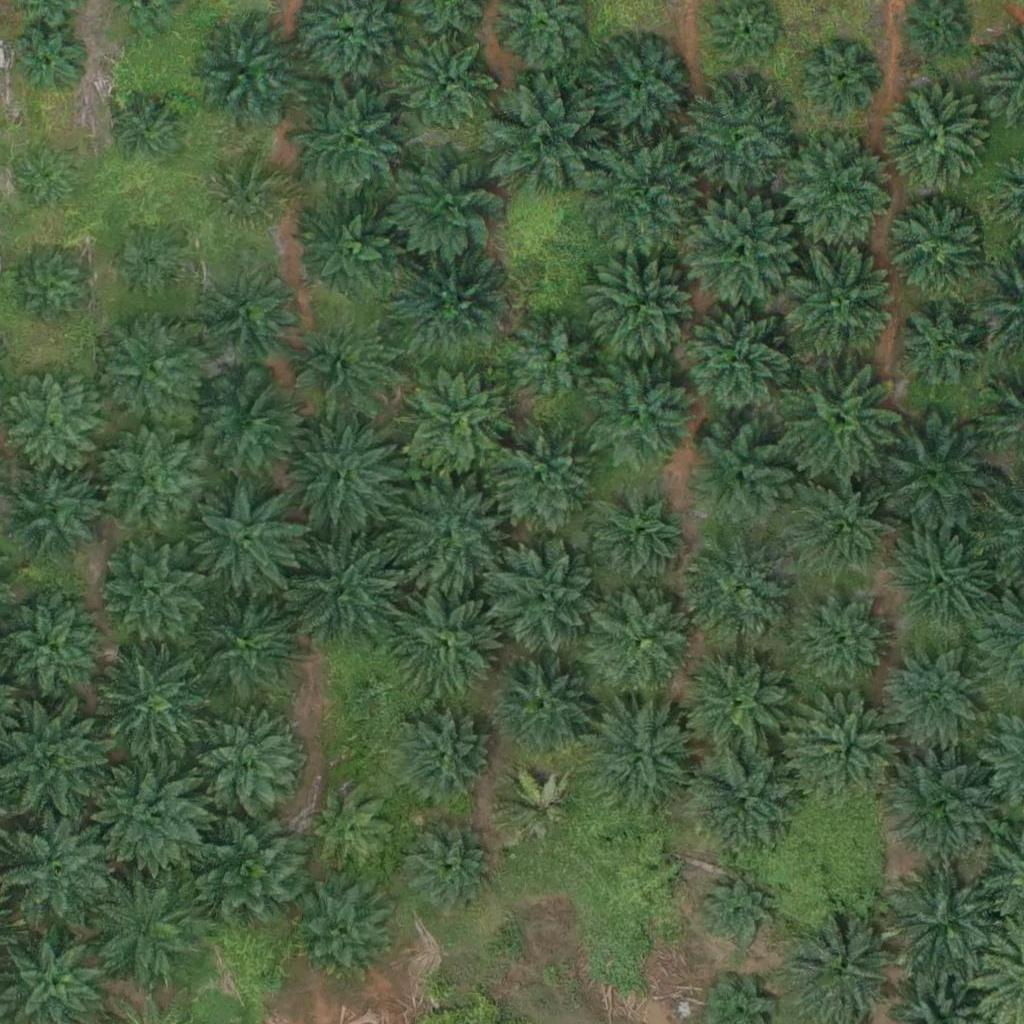Kelapa_Sawit: (181, 12, 306, 138), (183, 478, 308, 604), (288, 73, 413, 199), (383, 143, 508, 269), (480, 76, 605, 202), (583, 135, 708, 261), (677, 300, 802, 426), (778, 242, 903, 368), (777, 357, 902, 483), (873, 413, 998, 539), (883, 861, 1008, 987), (181, 700, 306, 826), (186, 802, 311, 928), (85, 640, 210, 766), (82, 749, 207, 875), (79, 866, 204, 992), (589, 253, 702, 367), (888, 743, 1001, 857), (681, 538, 794, 652), (191, 369, 304, 482), (287, 423, 400, 536), (587, 358, 700, 471), (580, 476, 693, 589), (681, 424, 794, 537), (781, 135, 894, 248), (791, 698, 904, 811), (681, 647, 794, 760), (685, 748, 798, 861), (389, 583, 502, 696), (385, 696, 498, 809), (283, 535, 396, 648), (684, 191, 796, 305), (789, 470, 901, 584), (97, 309, 209, 422), (99, 424, 211, 537), (297, 195, 409, 308), (284, 311, 396, 424), (396, 248, 508, 361), (401, 367, 513, 480), (394, 477, 506, 590), (482, 422, 594, 535), (679, 76, 791, 189), (586, 587, 698, 700), (585, 701, 697, 814), (486, 538, 598, 651), (188, 588, 300, 701), (97, 540, 209, 653), (886, 85, 986, 186), (885, 200, 985, 301), (396, 816, 496, 917), (301, 776, 401, 877), (2, 376, 102, 476), (1, 464, 101, 564), (397, 33, 497, 133), (587, 39, 687, 139), (892, 296, 992, 396), (891, 527, 991, 627), (882, 648, 982, 748), (789, 594, 889, 694), (292, 875, 392, 975), (494, 765, 582, 854), (9, 244, 97, 332), (511, 314, 599, 402), (501, 666, 589, 754), (206, 267, 293, 355), (212, 160, 287, 235), (805, 41, 880, 116), (8, 29, 83, 104), (109, 96, 184, 171), (115, 226, 190, 301), (701, 874, 776, 949), (14, 148, 76, 211)
